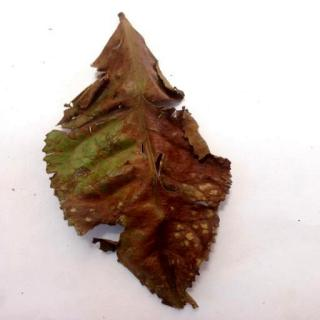Algal Leaf: (46, 14, 233, 310)
